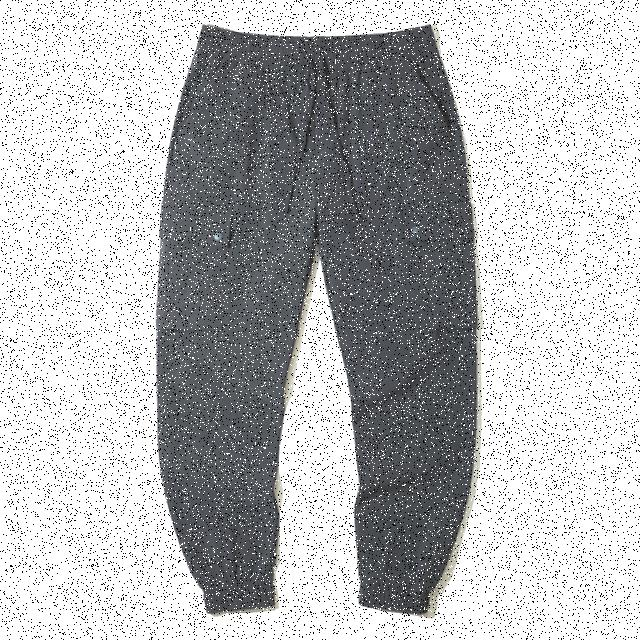dress: (159, 17, 486, 623)
